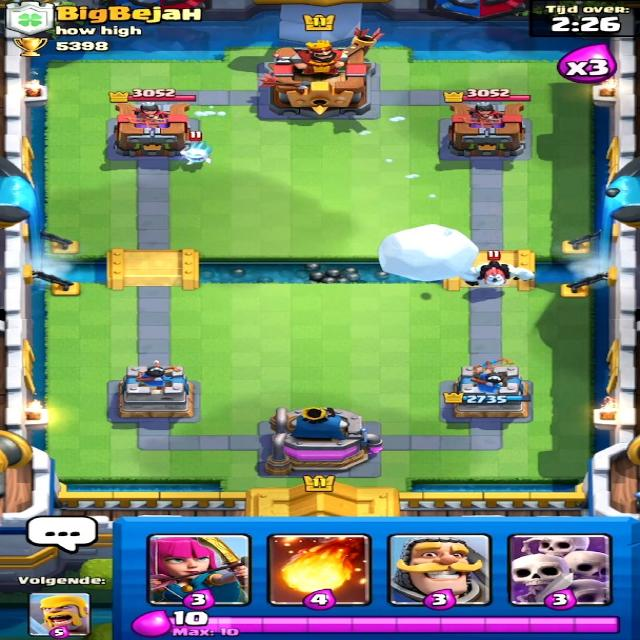Enemy_Ice_Golem_Troop: (465, 259, 531, 290)
Enemy_Ice_Spirit_Troop: (176, 138, 217, 163)
Enemy_Snowball_Troop: (378, 225, 481, 285)
Fireball_Card: (264, 534, 373, 608)
